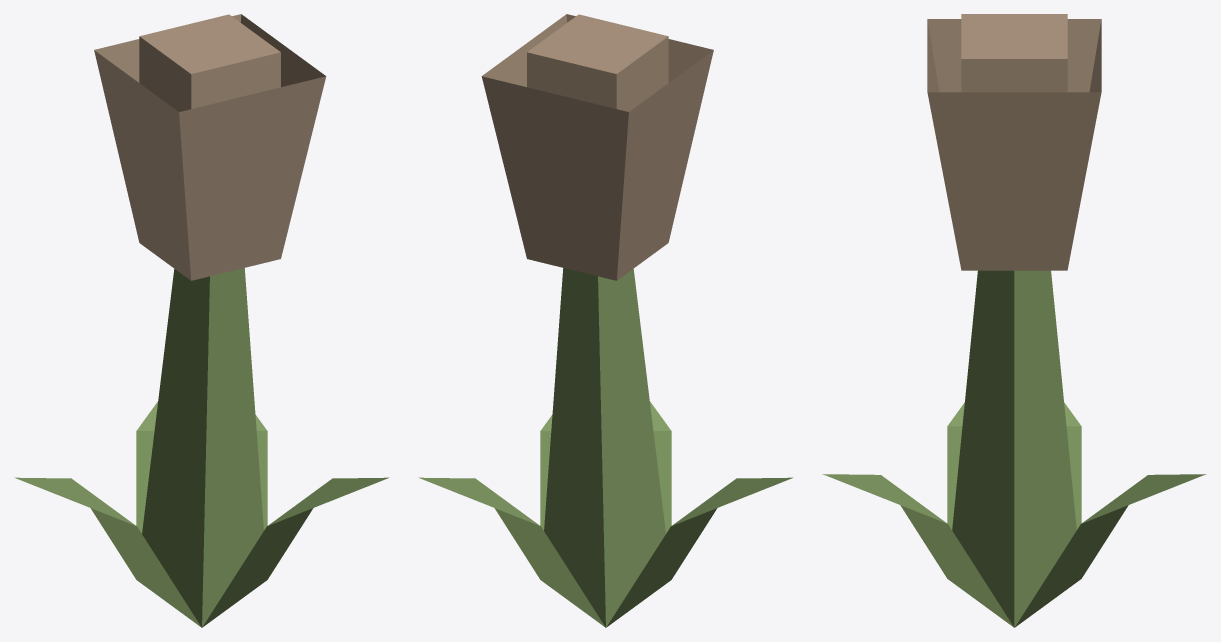
File: K_Flowers_Red.glb
The picture shows the model from 3 angles, left to right: view 1: azimuth 30°, elevation 25°; view 2: azimuth 150°, elevation 25°; view 3: azimuth 270°, elevation 25°; orthographic projection. The views are drawn at different scales.
Parts seen in each view (by area): view 1: K_Flowers_Red; view 2: K_Flowers_Red; view 3: K_Flowers_Red.
Part boxes in pixels (box(x1,y1,x2,y2)): K_Flowers_Red: box(14, 14, 389, 627); K_Flowers_Red: box(418, 14, 793, 627); K_Flowers_Red: box(822, 14, 1206, 627).
Size of the model in its own units: 0.4773 by 0.8775 by 0.5432.
